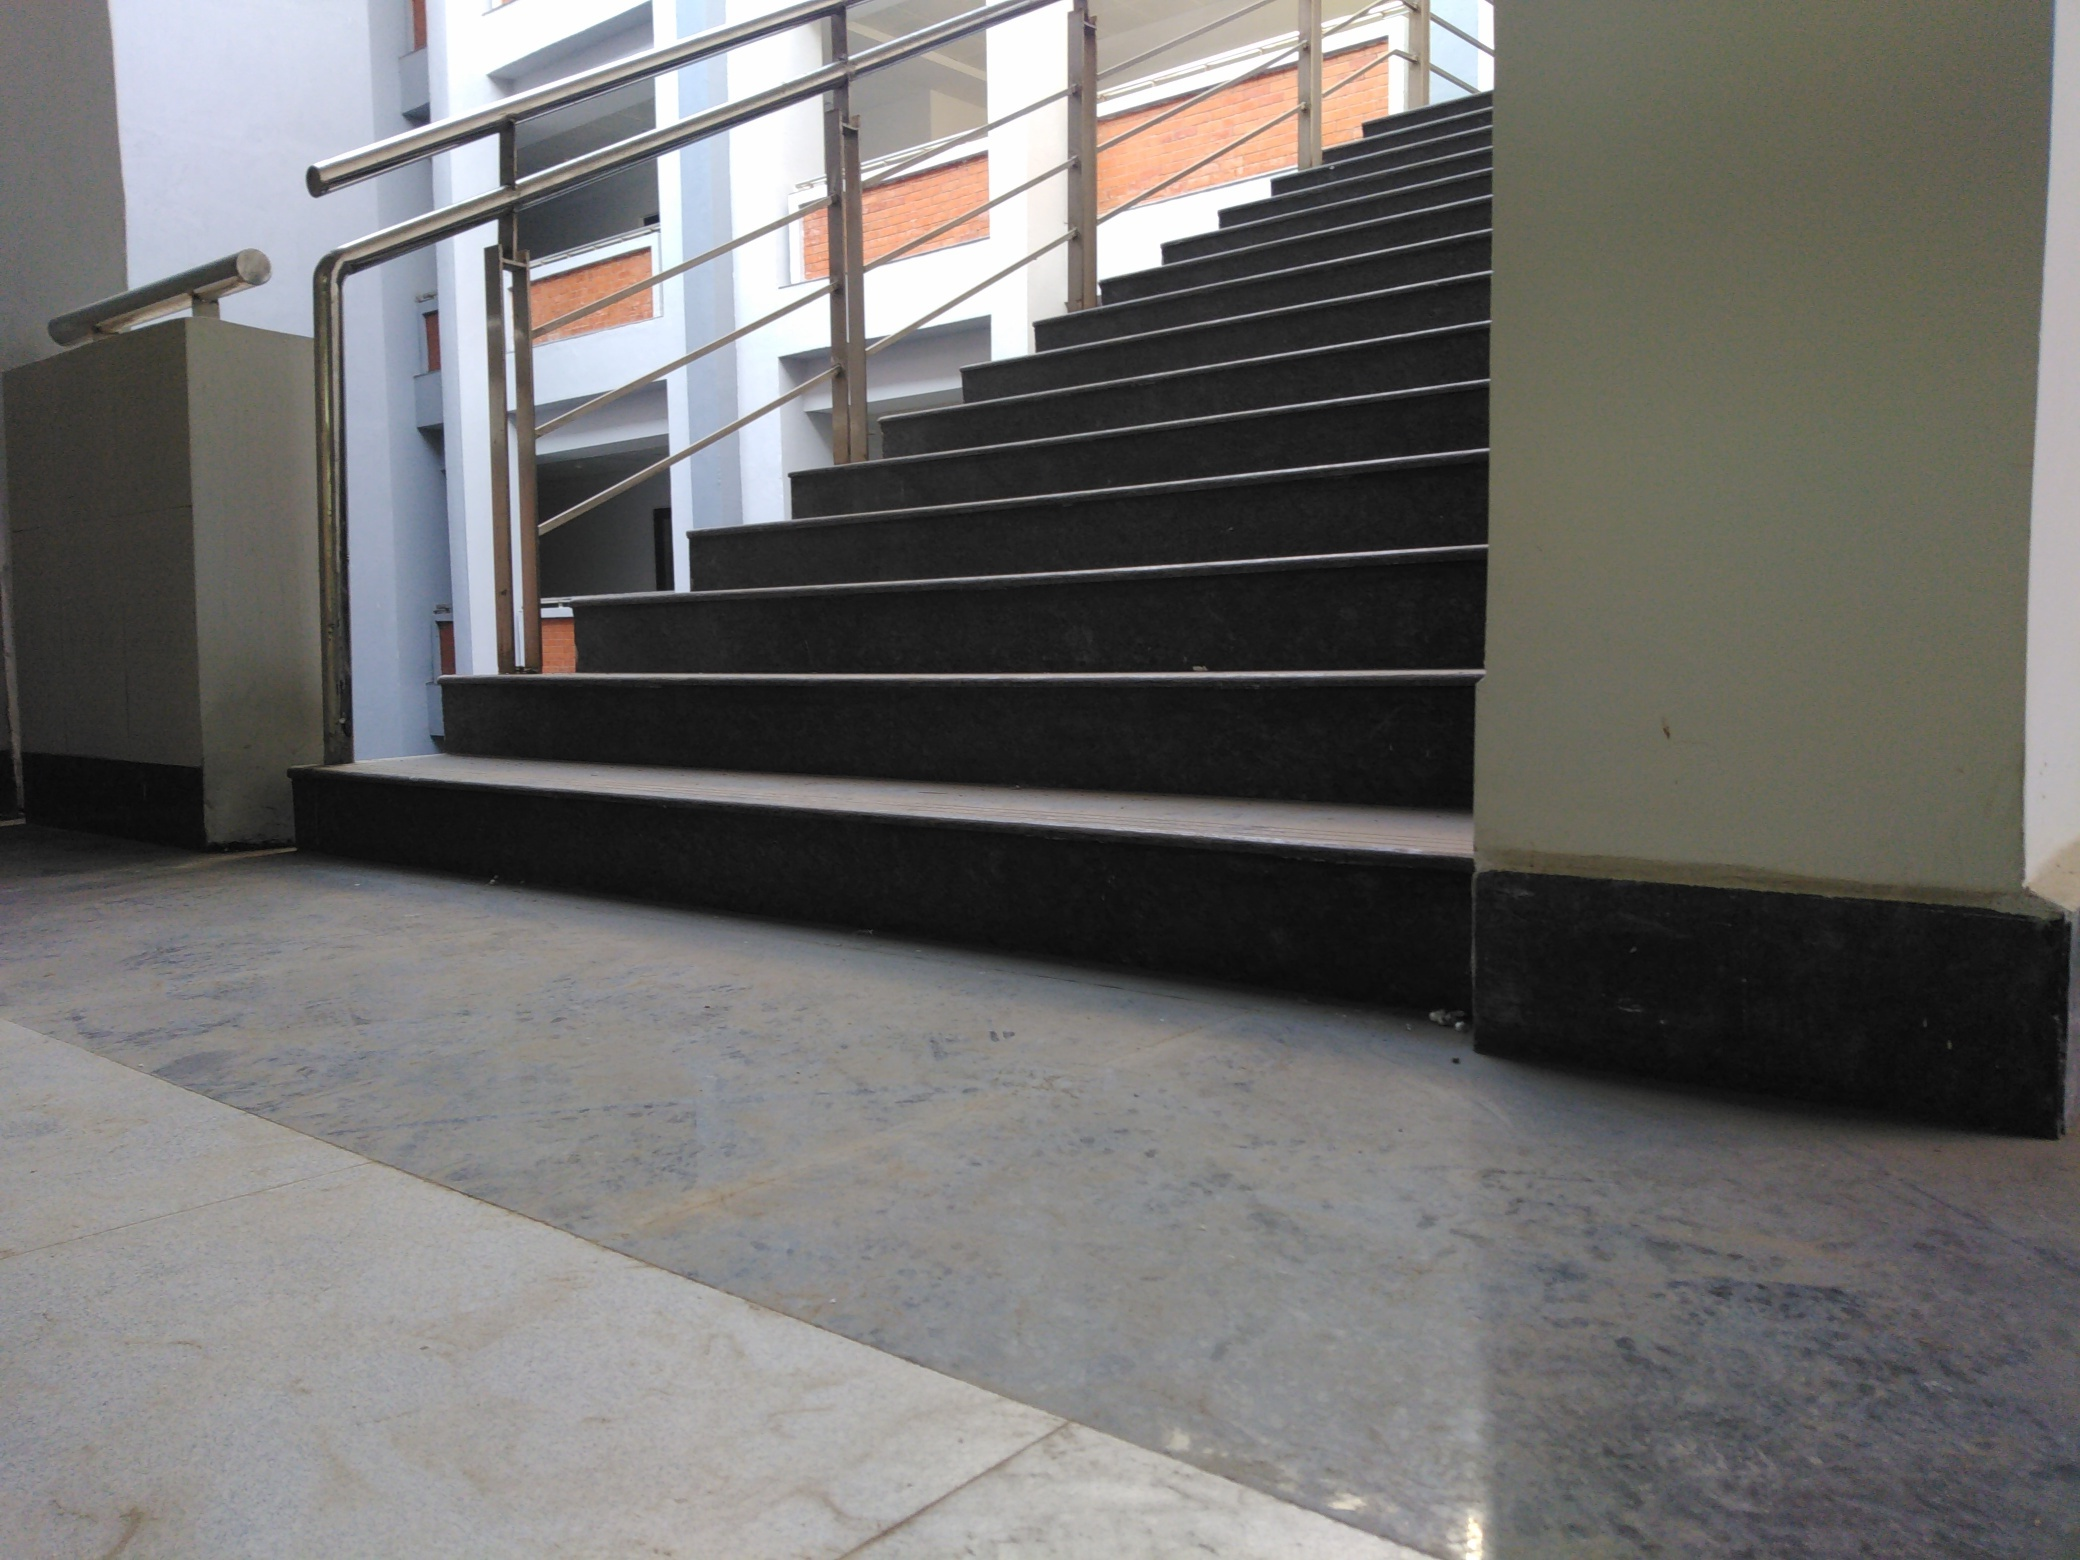stairs_up: (329, 92, 1490, 985)
